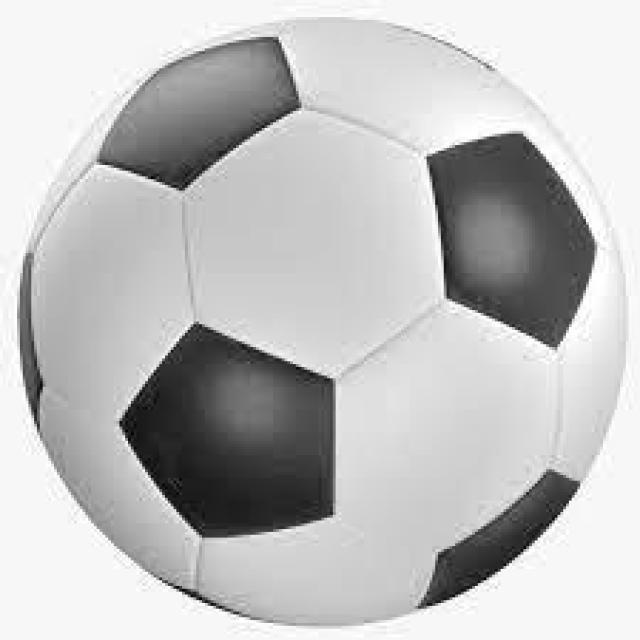Soccer Ball: (0, 17, 640, 617)
